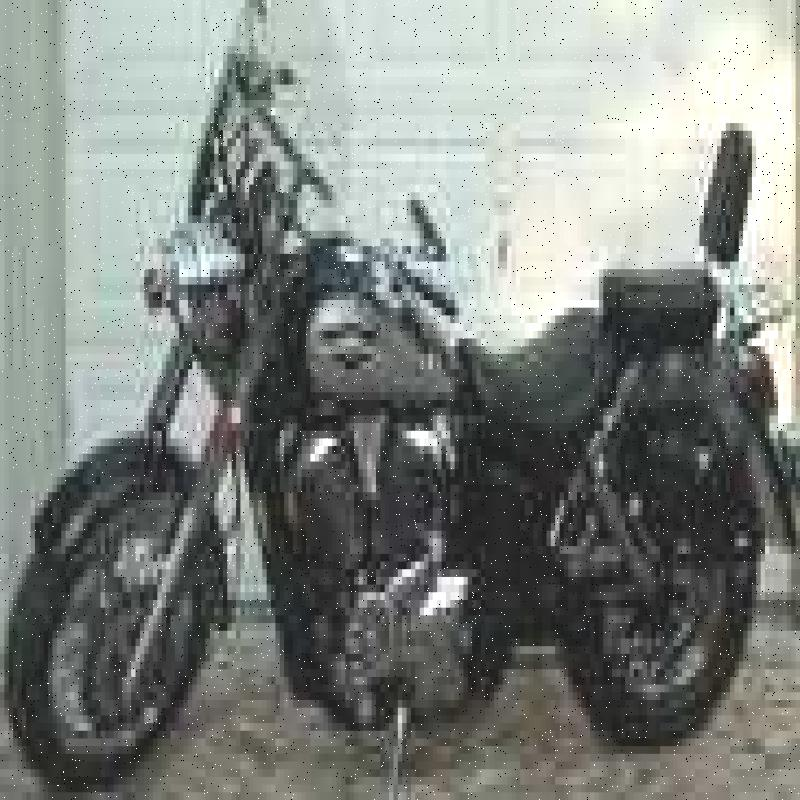bike: (0, 0, 791, 800)
